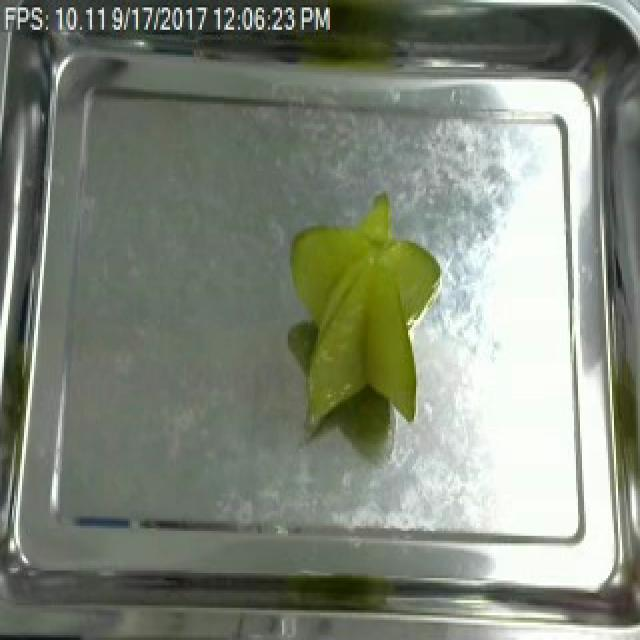fruit: (282, 218, 448, 437)
